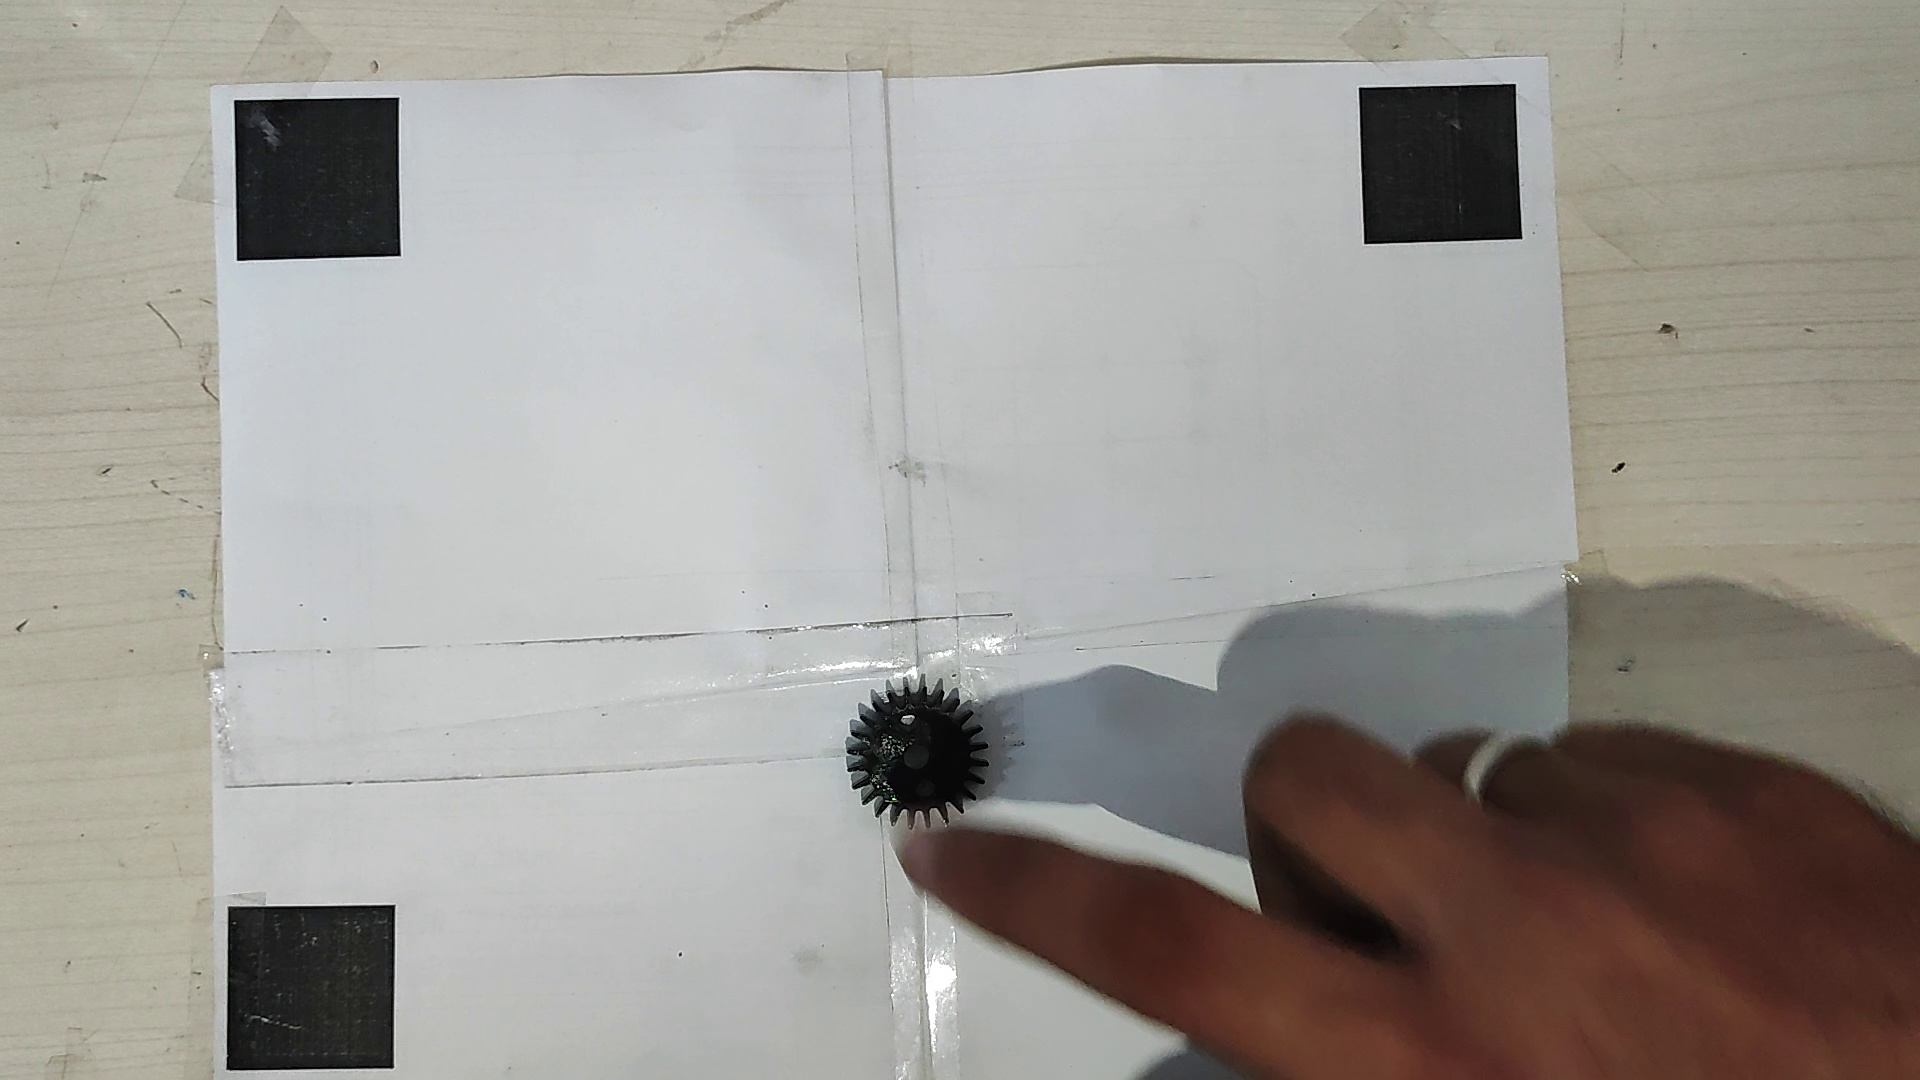Gear: (838, 674, 990, 834)
